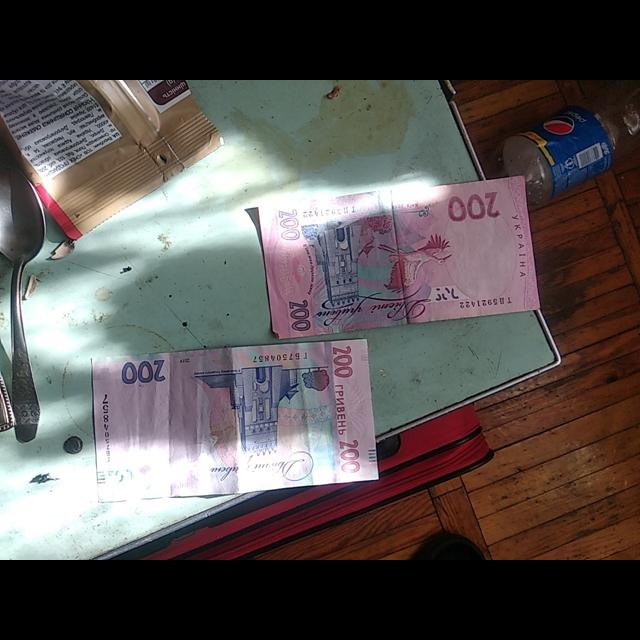200uah: (91, 337, 379, 501), (257, 175, 542, 337)
